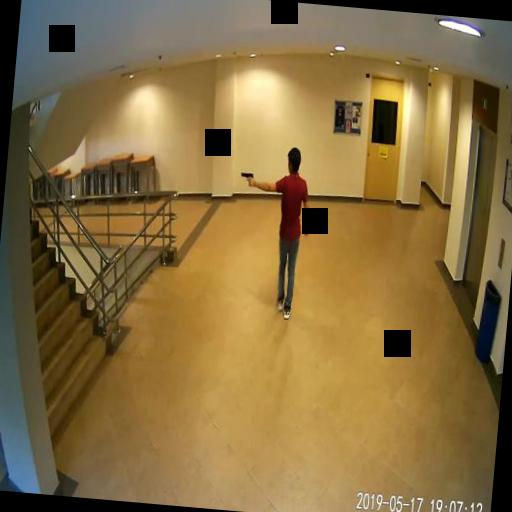Handgun: (240, 170, 252, 186)
